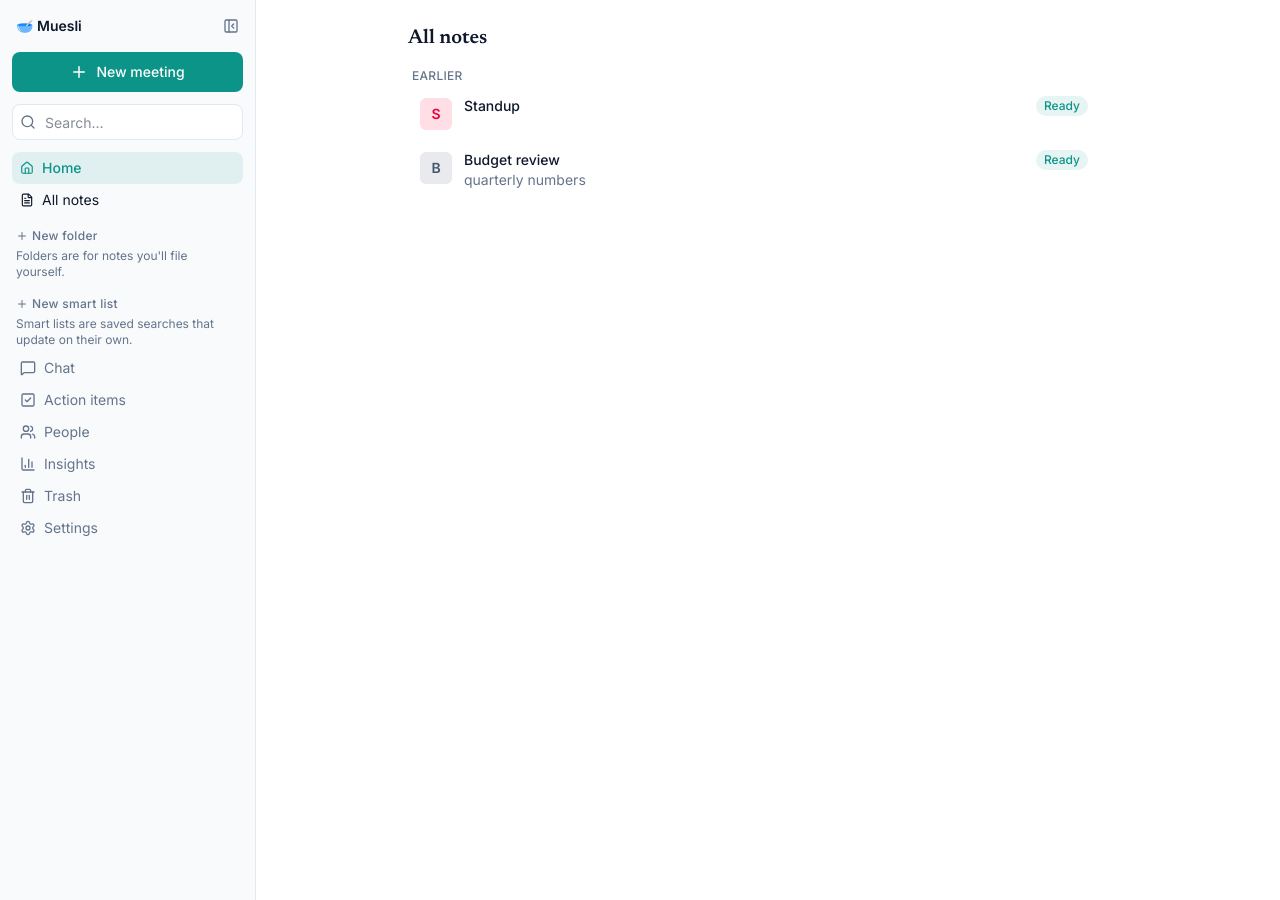
it: AppLayout client-side search filter › filters by title (case-insensitive) when query matches title only
The width and height of the screenshot is (1280, 900).
Expected: the text "Standup" is shown, [464,97,520,114]
Type "budget" into the field named "search notes" at (128, 122), box [12,104,243,140]
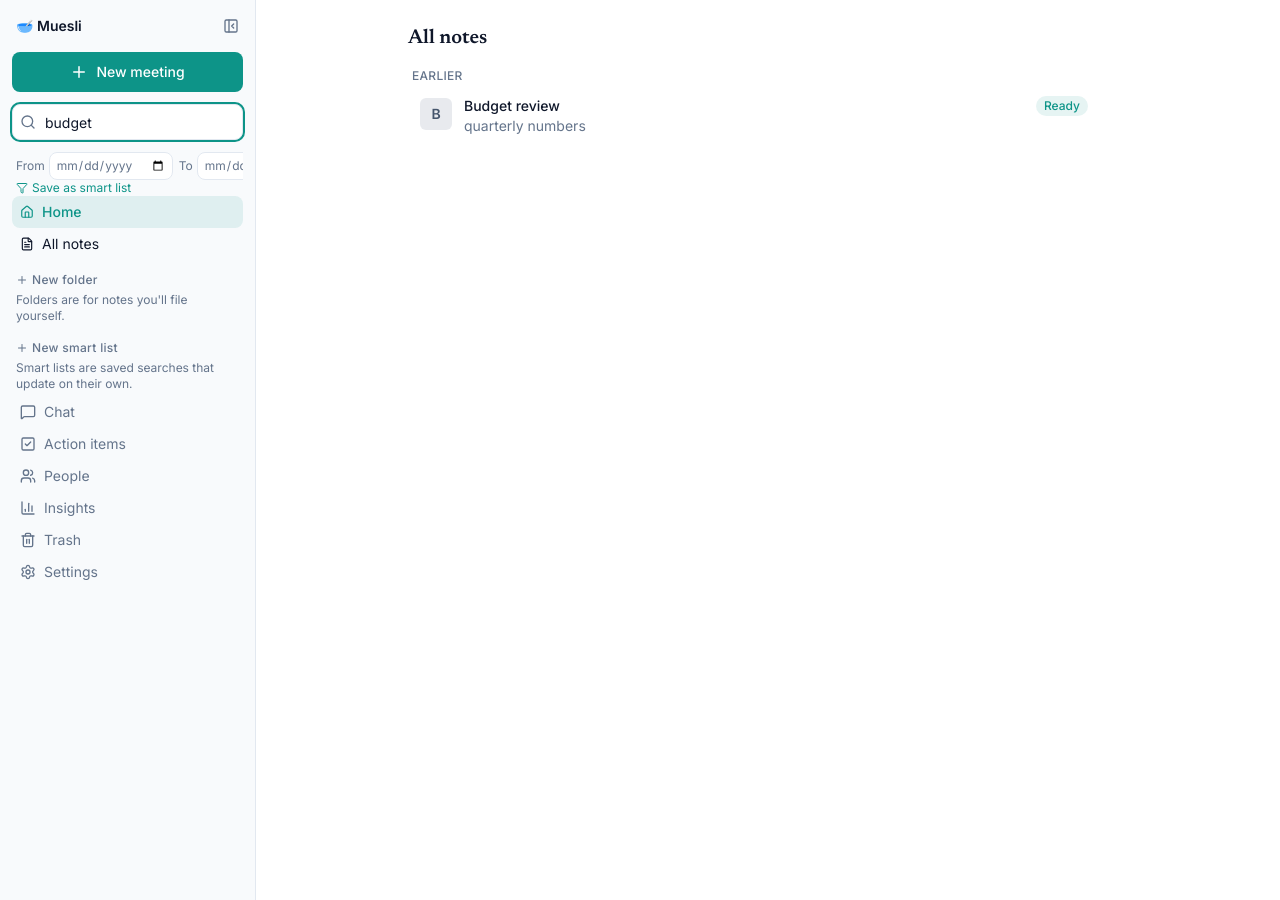
Expected: the text "Budget review" is shown, [464,97,560,114]
Expected: the button "Standup" is gone
